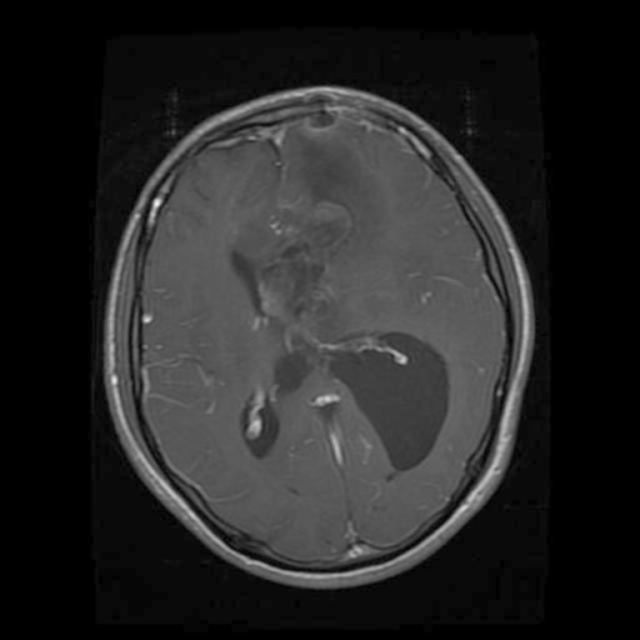pituitary tumor: (251, 204, 344, 324)
